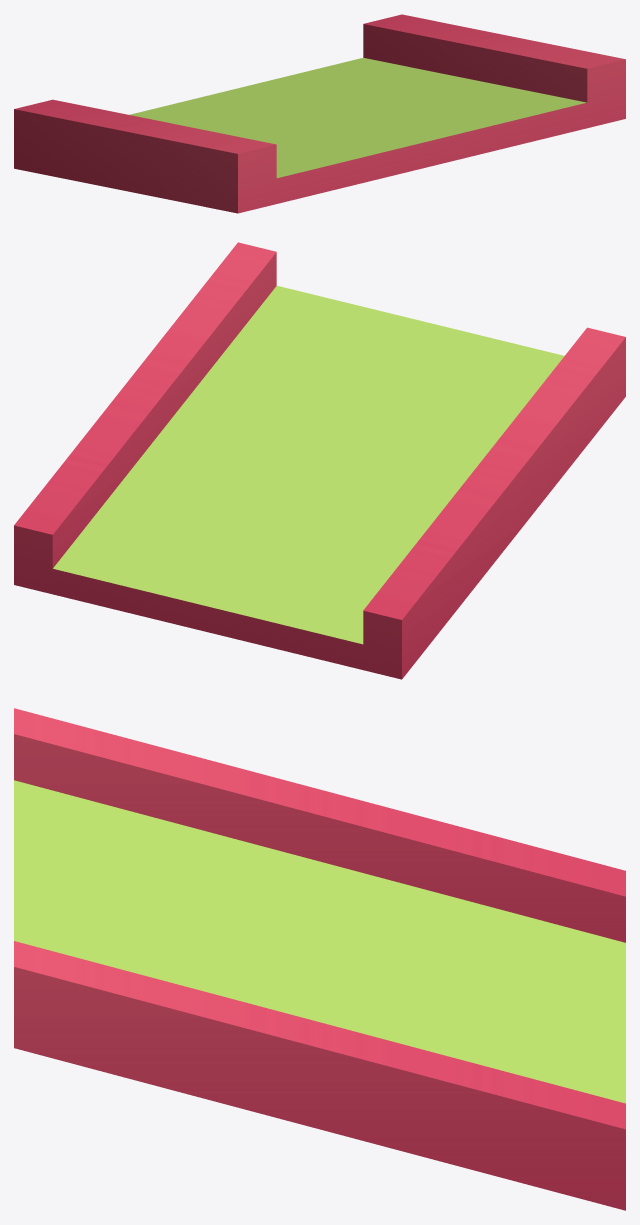
The model's file is ramp-b.gltf.
The picture shows the model from 3 angles, top to bottom: view 1: azimuth 30°, elevation 25°; view 2: azimuth 150°, elevation 25°; view 3: azimuth 270°, elevation 25°; orthographic projection. The views are drawn at different scales.
Parts seen in each view (by area): view 1: ramp-b; view 2: ramp-b; view 3: ramp-b.
Boxes of the visible parts, x1,y1,x2,y2 form: ramp-b: (14, 14, 625, 213); ramp-b: (14, 242, 625, 679); ramp-b: (14, 708, 625, 1210).
Bounding box in the file's own units: 0.9999 × 0.44 × 0.9999.
Materials: 1 (1 with a texture image).
